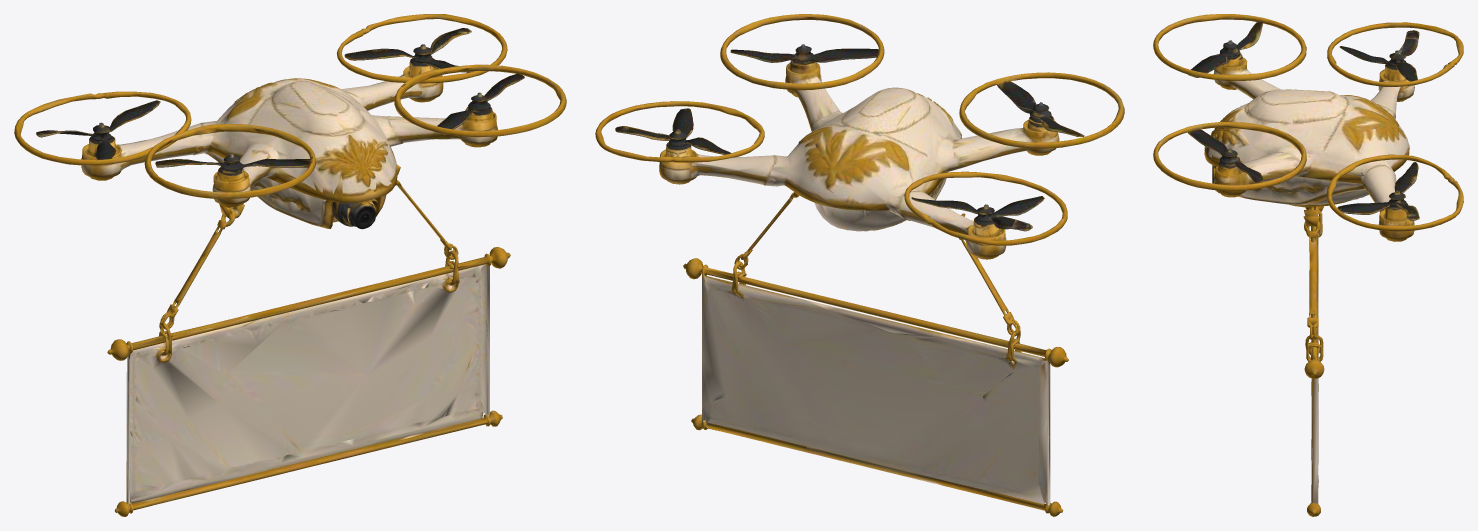
Rendered from dron.glb.
The picture shows the model from 3 angles, left to right: view 1: azimuth 30°, elevation 25°; view 2: azimuth 150°, elevation 25°; view 3: azimuth 270°, elevation 25°; orthographic projection. The views are drawn at different scales.
Parts seen in each view (by area): view 1: Mesh_0; view 2: Mesh_0; view 3: Mesh_0.
Part boxes in pixels (x1=…): Mesh_0: x1=14, y1=14, x2=566, y2=516; Mesh_0: x1=595, y1=14, x2=1124, y2=516; Mesh_0: x1=1153, y1=14, x2=1463, y2=516.
Size of the model in its own units: 1.9 by 1.47 by 1.21.
1 material, 1 textured.
